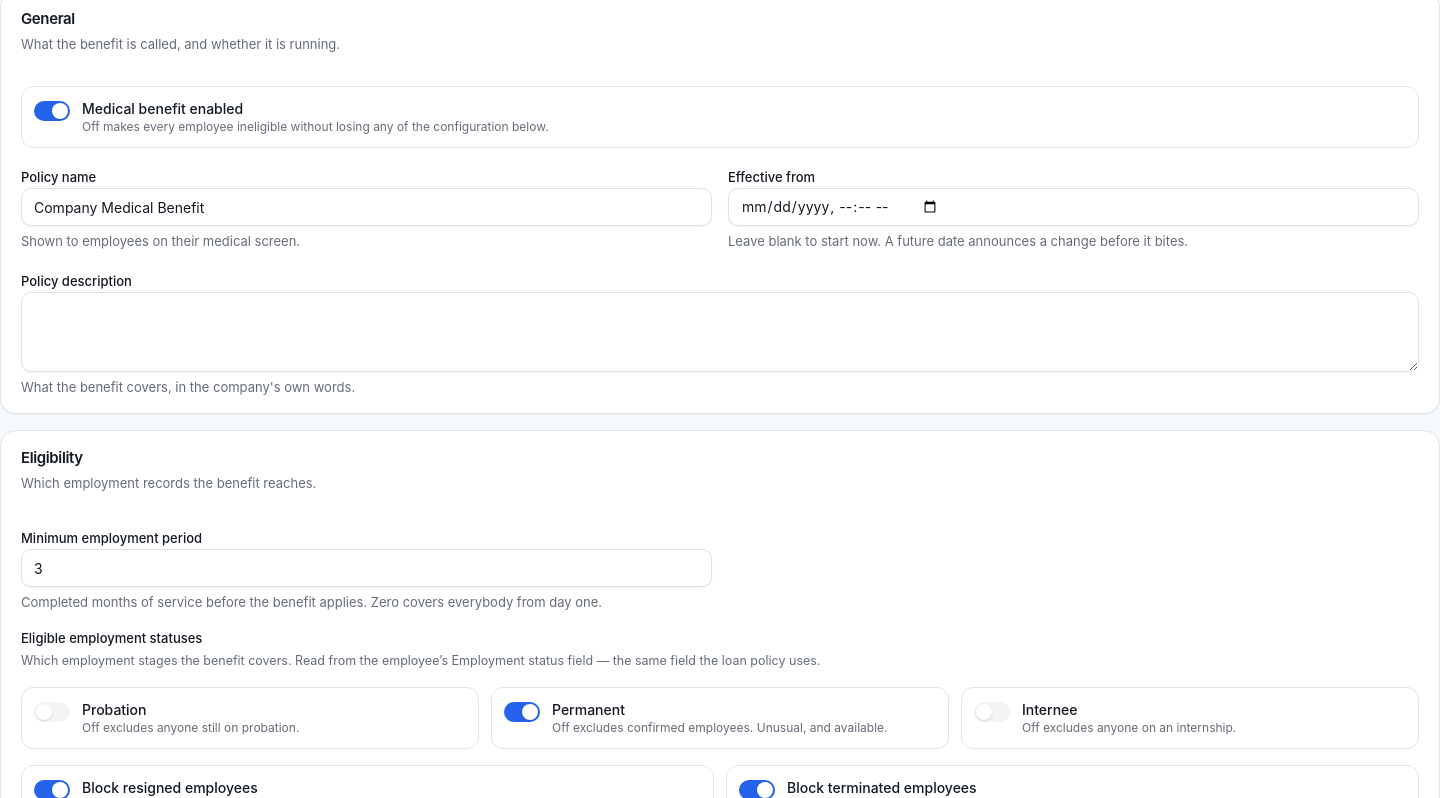
Test: validation the screen enforces before anything is sent › refuses an empty policy name
Check: the heading "Eligibility" is shown, box 21,448 -> 83,467
Clear the field labelled "Policy name" at [366, 207], box 21,188 -> 712,226
(page scrolled)
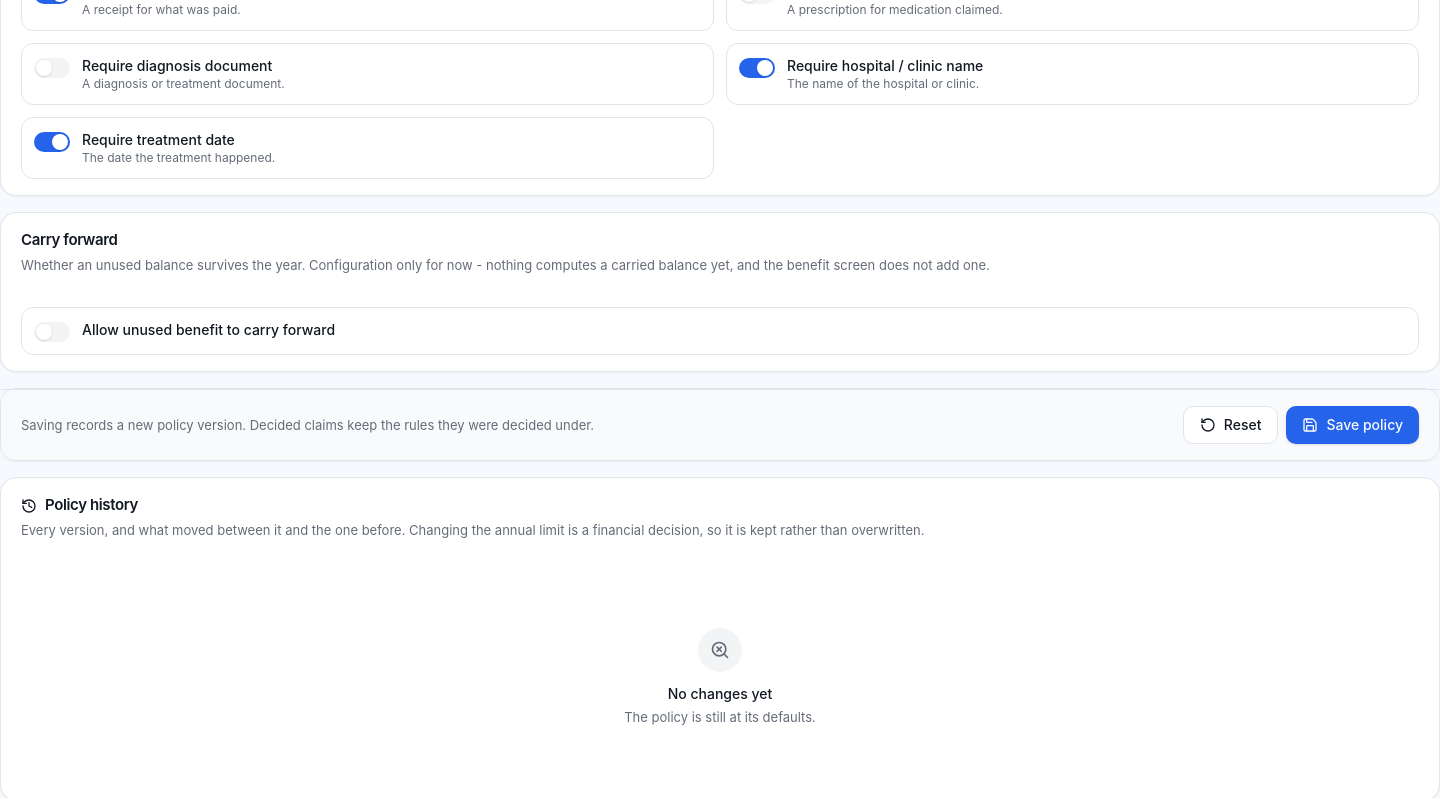
Click the button "Save policy".
click(1353, 425)  # box 1286,406 -> 1419,444
(page scrolled)
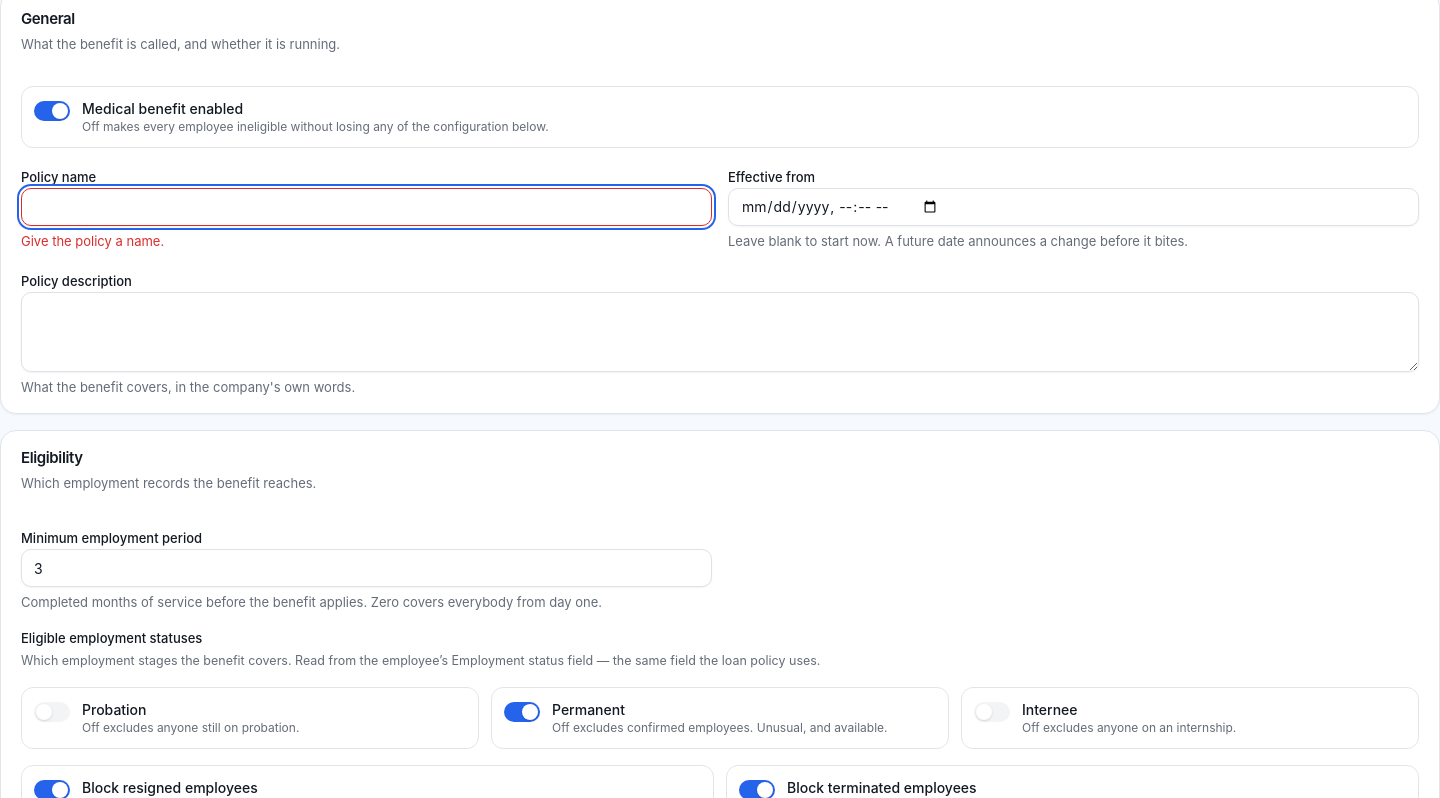
Check: the text "Give the policy a name." is shown, box 21,233 -> 164,249
